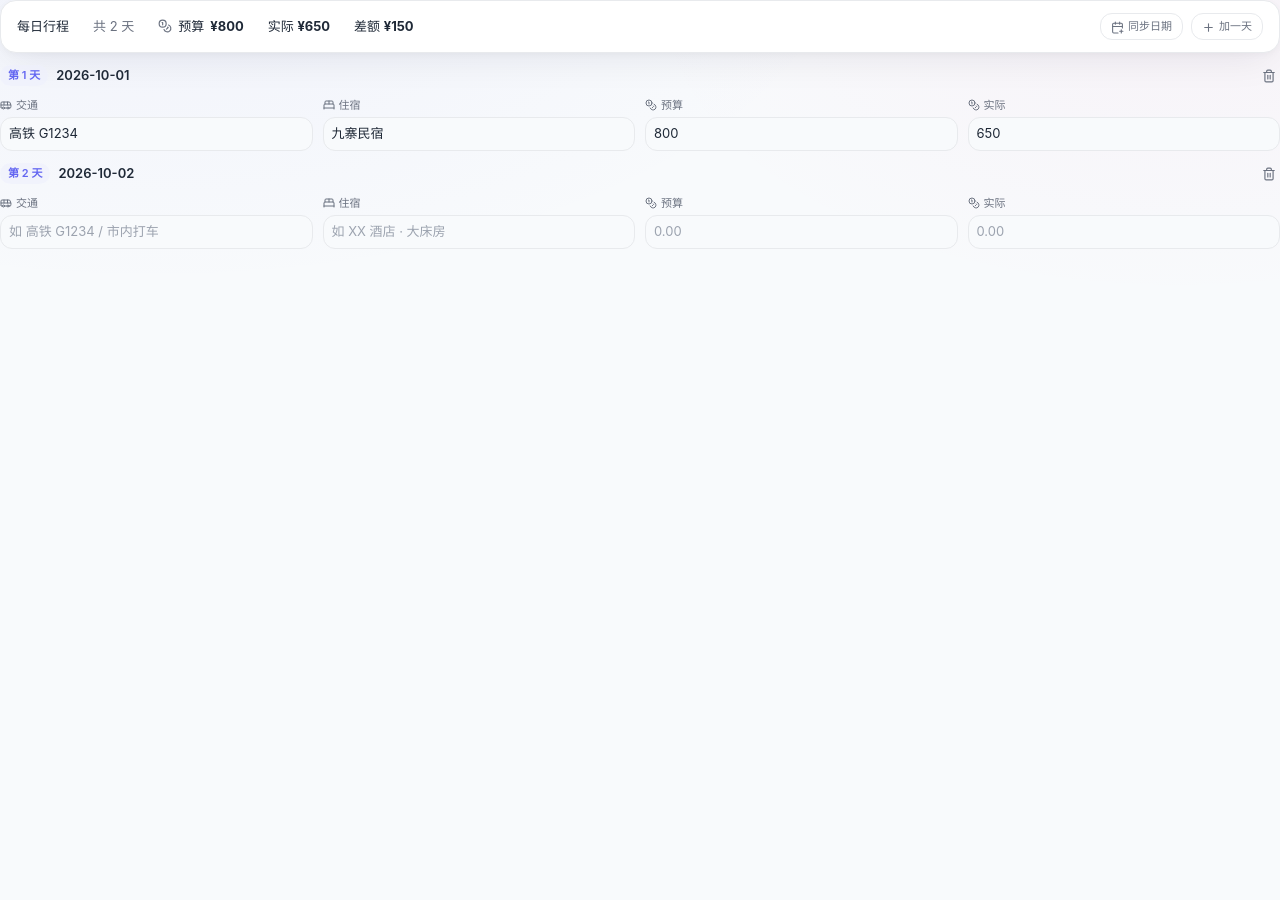
Test: F1-⑤ 行程卡删除 › 取消：零写入，卡片还在
Click the button named "删除 2026-10-01 行程卡" at point(1269, 76), box [1258,64,1279,86]
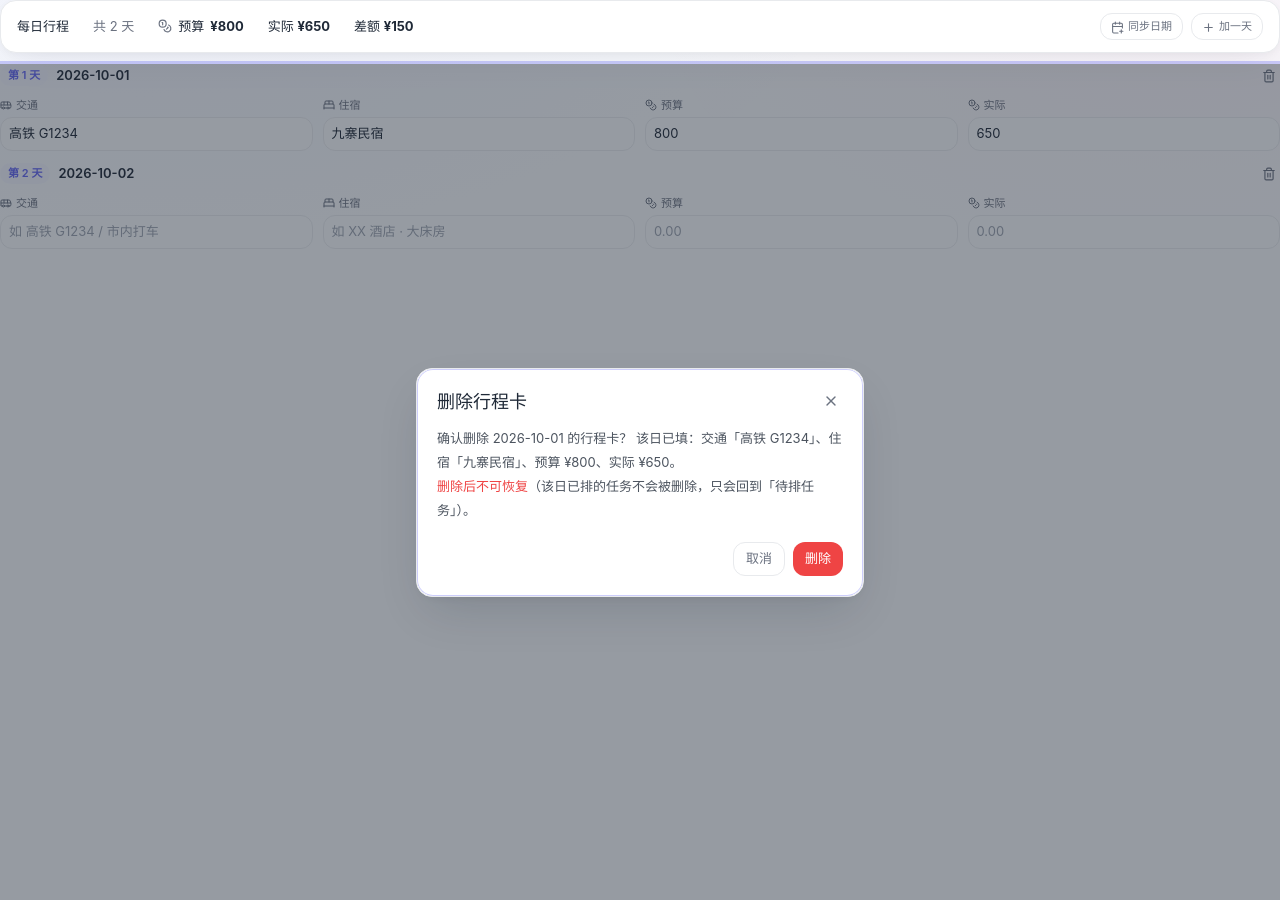
Click the button "取消" at point(759, 559), box [733,542,785,575]
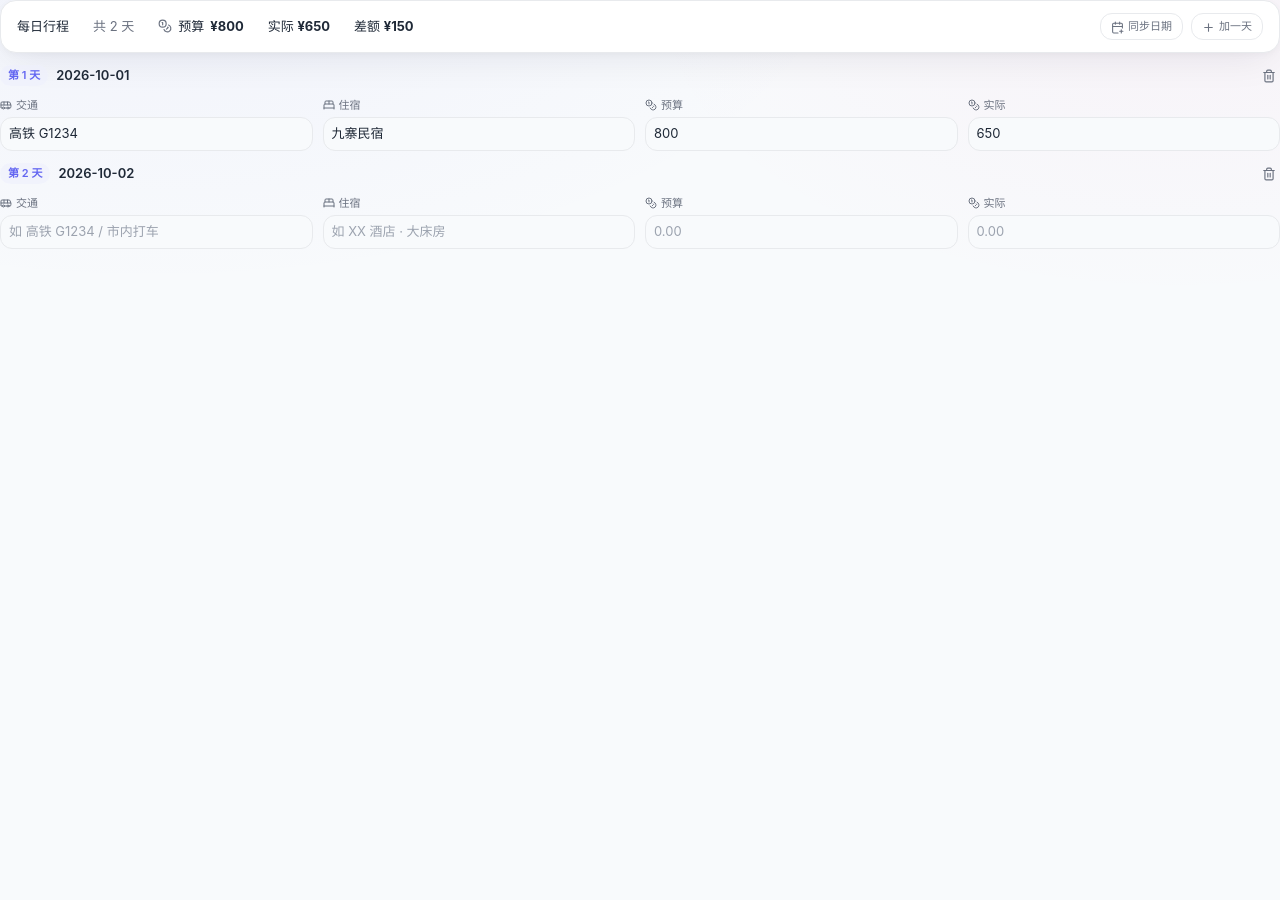
Expected: the text "确认删除 2026-10-01" is gone
